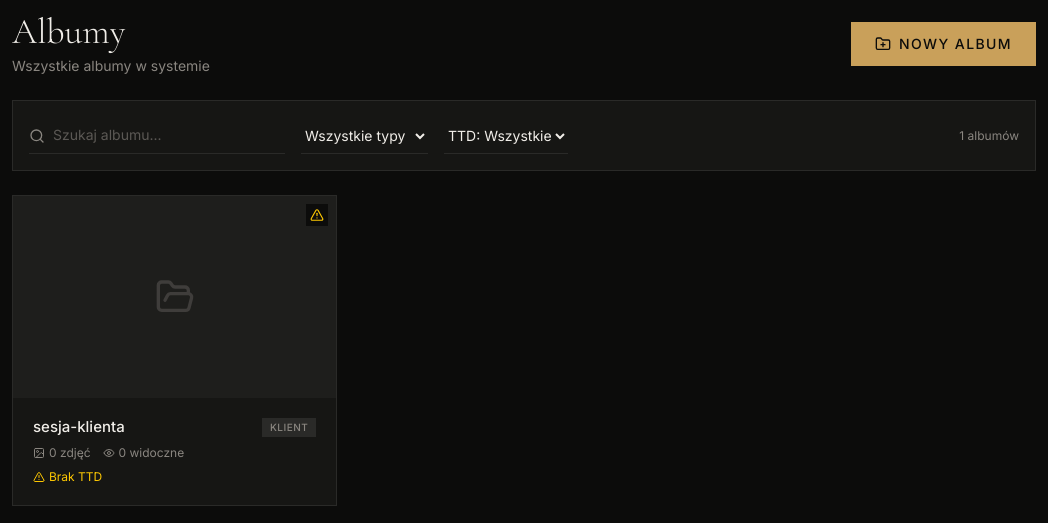
AdminAlbums › A filter matching nothing explains itself rather than showing an empty grid
Expected: the heading "sesja-klienta" is shown, 33,418 -> 125,437
Select "Administracyjne" in the 1st dropdown: point(364, 136) 301,118 -> 428,154
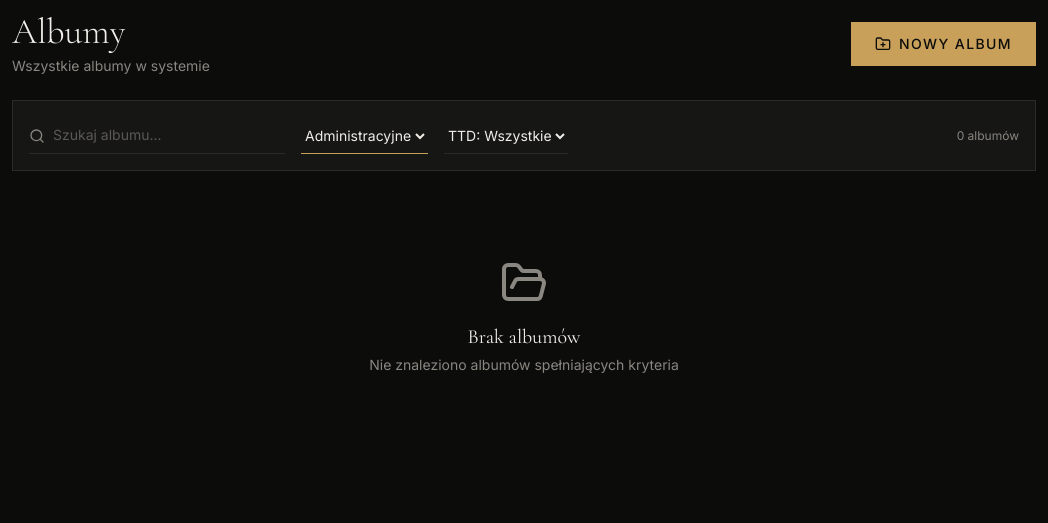
Now the heading "Brak albumów" is shown, box 468,323 -> 580,351
